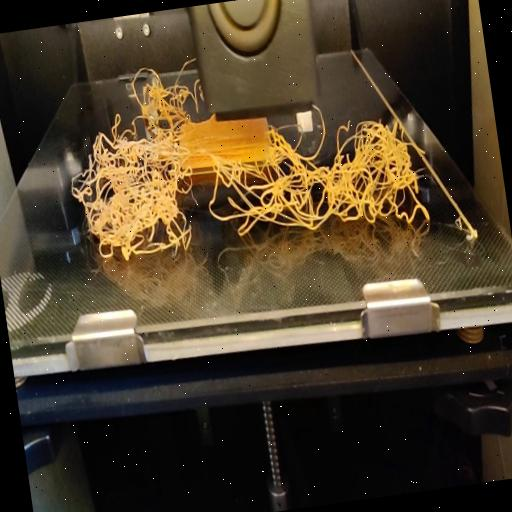spaghetti: (64, 87, 437, 273), (104, 42, 208, 128)
